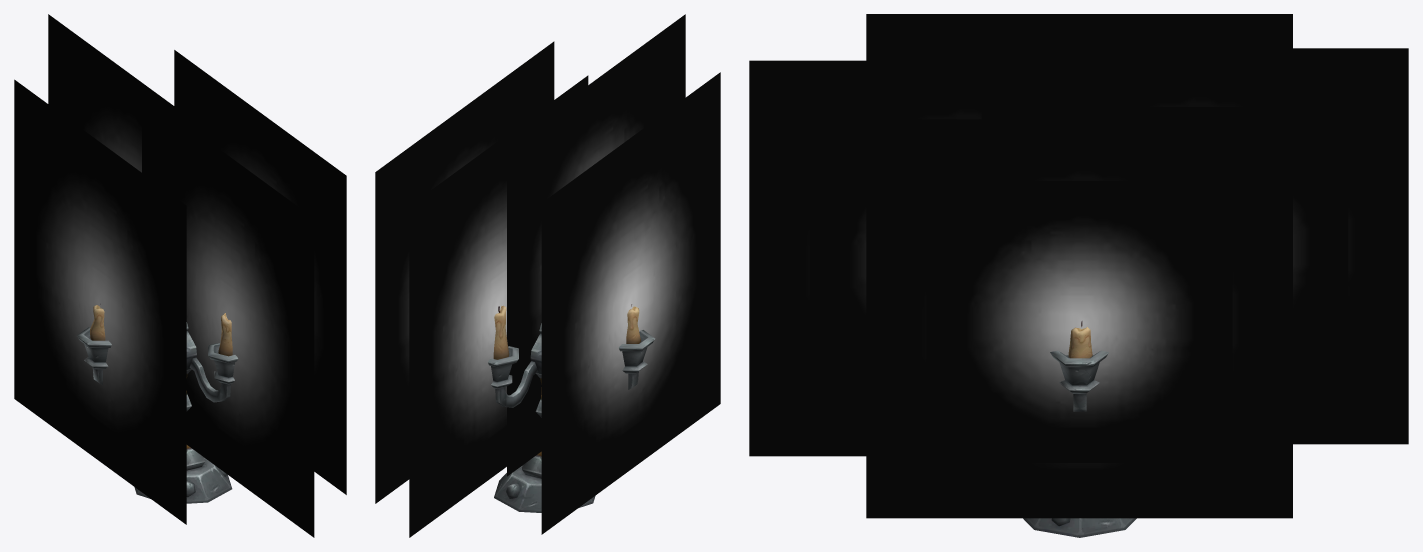
3 views of the same model, side by side, from view 1: azimuth 30°, elevation 25°; view 2: azimuth 150°, elevation 25°; view 3: azimuth 270°, elevation 25° (orthographic). The views are drawn at different scales.
Size of the model in its own units: 1.27 by 2.28 by 2.95.
Materials: 3 (3 with a texture image).
